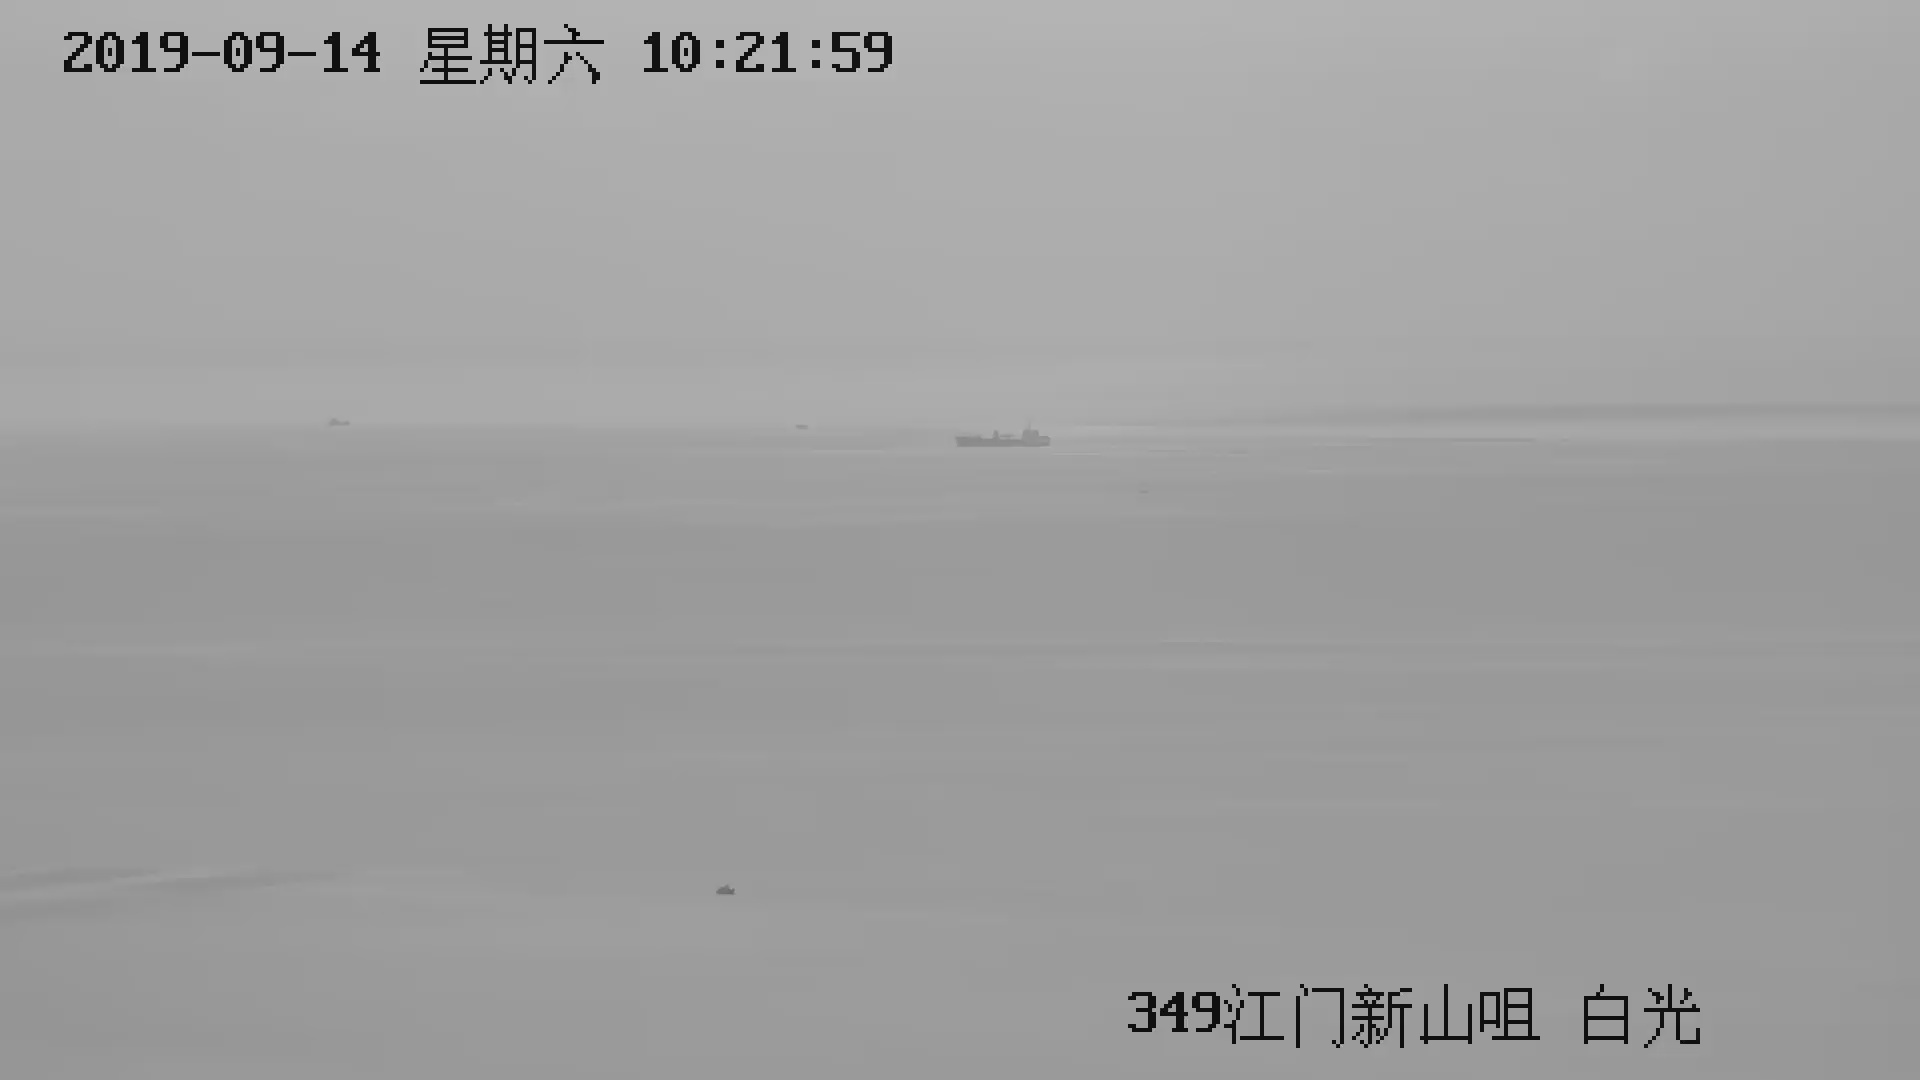ship: (955, 423, 1052, 450)
